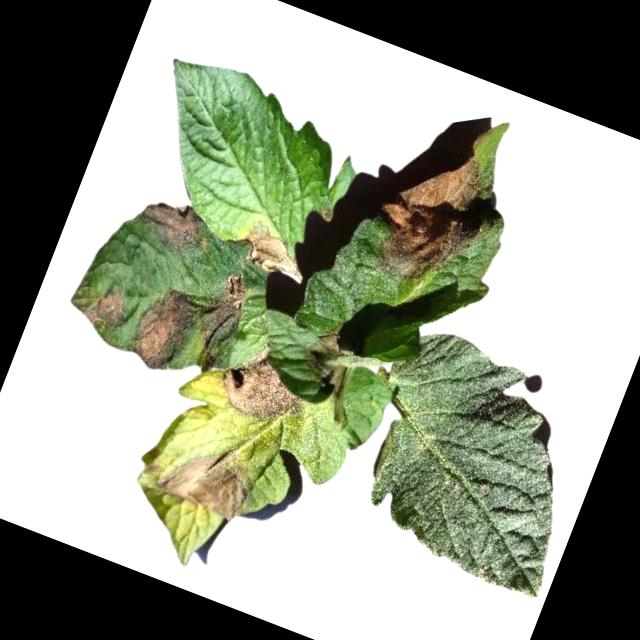Late_blight: (354, 128, 514, 304), (157, 432, 268, 529), (213, 338, 319, 434), (183, 263, 265, 377), (122, 277, 208, 381), (132, 191, 219, 264), (233, 218, 305, 278), (298, 318, 353, 386), (79, 279, 138, 338)
healthy: (331, 317, 615, 601)
